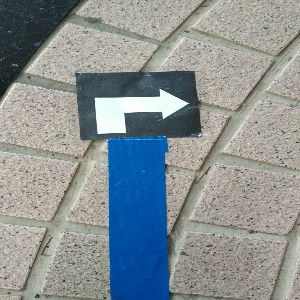right: (75, 73, 201, 138)
